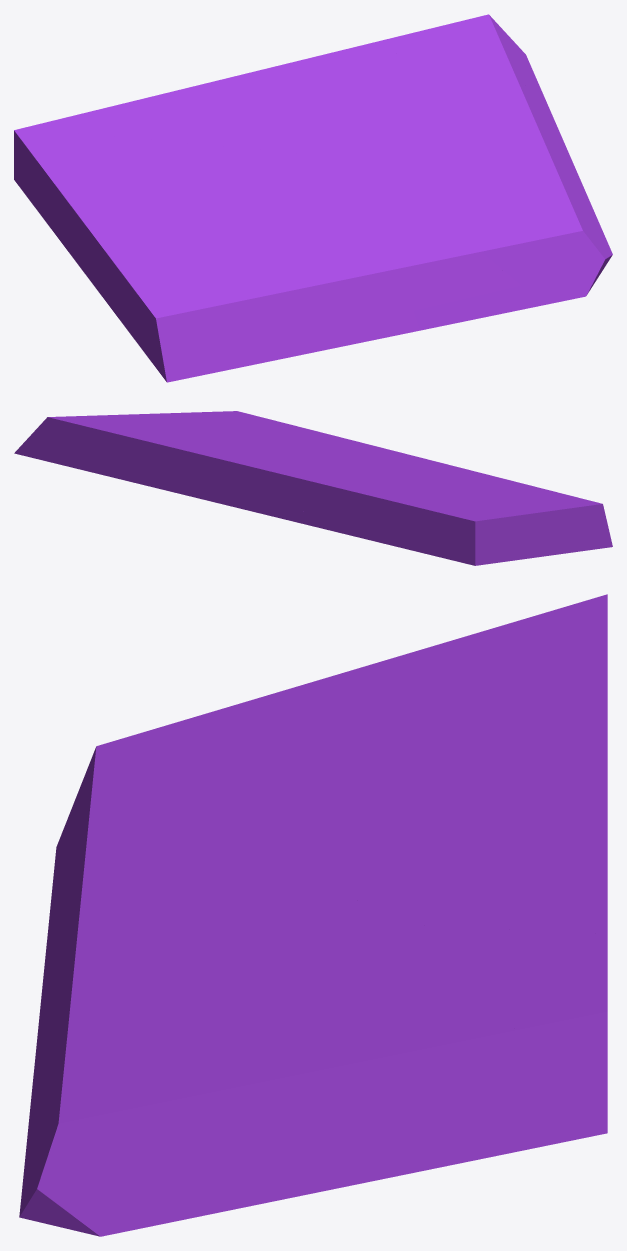
The model's file is Window_143_0_chunks.fbx.
3 renders of one model, top to bottom at view 1: azimuth 30°, elevation 25°; view 2: azimuth 150°, elevation 25°; view 3: azimuth 270°, elevation 25°, orthographic. The views are drawn at different scales.
Parts seen in each view (by area): view 1: Window_143_0_3, Window_143_0_12, Window_143_0_2, Window_143_0_7, Window_143_0_0, Window_143_0_11, Window_143_0_9, Window_143_0_13, Window_143_0_4, Window_143_0_15, Window_143_0_17, Window_143_0_8 (+6 smaller); view 2: Window_143_0_7, Window_143_0_4, Window_143_0_12, Window_143_0_0, Window_143_0_2, Window_143_0_3, Window_143_0_11, Window_143_0_13, Window_143_0_9, Window_143_0_20, Window_143_0_1, Window_143_0_19 (+3 smaller); view 3: Window_143_0_3, Window_143_0_12, Window_143_0_13, Window_143_0_7, Window_143_0_20, Window_143_0_2, Window_143_0_0, Window_143_0_11, Window_143_0_4, Window_143_0_9, Window_143_0_18, Window_143_0_21 (+5 smaller).
Boxes of the visible parts, x1,y1,x2,y2 form: Window_143_0_3: (187, 143, 406, 278); Window_143_0_12: (371, 14, 503, 193); Window_143_0_2: (83, 207, 256, 346); Window_143_0_7: (209, 36, 399, 159); Window_143_0_0: (14, 128, 191, 282); Window_143_0_11: (393, 174, 610, 304); Window_143_0_9: (317, 215, 520, 310); Window_143_0_13: (472, 92, 610, 256); Window_143_0_4: (14, 82, 241, 223); Window_143_0_15: (158, 306, 306, 382); Window_143_0_17: (299, 270, 419, 353); Window_143_0_8: (414, 286, 543, 330); Window_143_0_7: (109, 436, 350, 518); Window_143_0_4: (299, 475, 505, 565); Window_143_0_12: (42, 416, 311, 476); Window_143_0_0: (381, 486, 546, 561); Window_143_0_2: (456, 480, 607, 552); Window_143_0_3: (288, 446, 470, 490); Window_143_0_11: (241, 412, 328, 447); Window_143_0_13: (117, 411, 241, 429); Window_143_0_9: (325, 433, 447, 467); Window_143_0_20: (14, 426, 49, 460); Window_143_0_1: (466, 471, 597, 555); Window_143_0_19: (43, 441, 72, 467); Window_143_0_3: (105, 757, 477, 961); Window_143_0_12: (249, 922, 607, 1034); Window_143_0_13: (52, 1016, 419, 1225); Window_143_0_7: (340, 765, 607, 933); Window_143_0_20: (285, 1041, 607, 1198); Window_143_0_2: (79, 669, 356, 834); Window_143_0_0: (334, 594, 607, 760); Window_143_0_11: (19, 946, 249, 1233); Window_143_0_4: (441, 602, 607, 803); Window_143_0_9: (39, 886, 190, 1125); Window_143_0_18: (84, 1104, 316, 1236); Window_143_0_21: (312, 1027, 607, 1108).
Bounding box in the file's own units: 1087 × 297 × 600.
